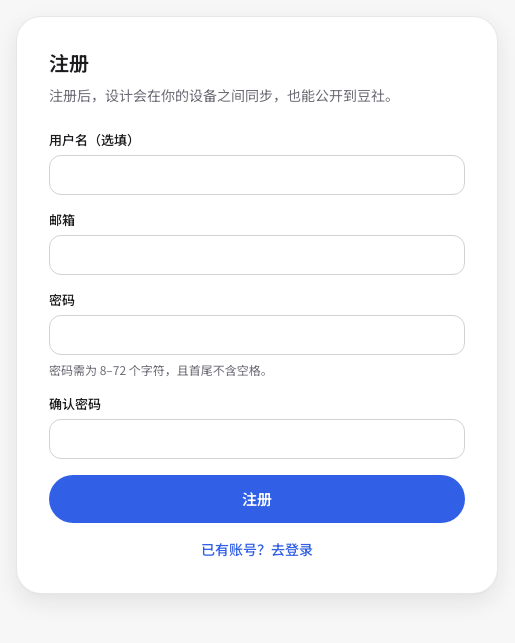
Test: register 页 › 邮箱已存在（CONFLICT）显示对应文案
In the field labelled "邮箱": (257, 255) [49, 235, 465, 275], type "a@b.com"
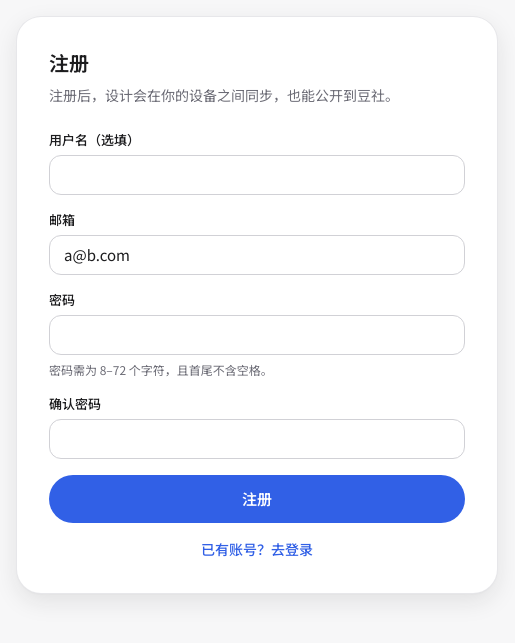
In the password field labelled "密码": (257, 335) [49, 315, 465, 355], type "12345678"
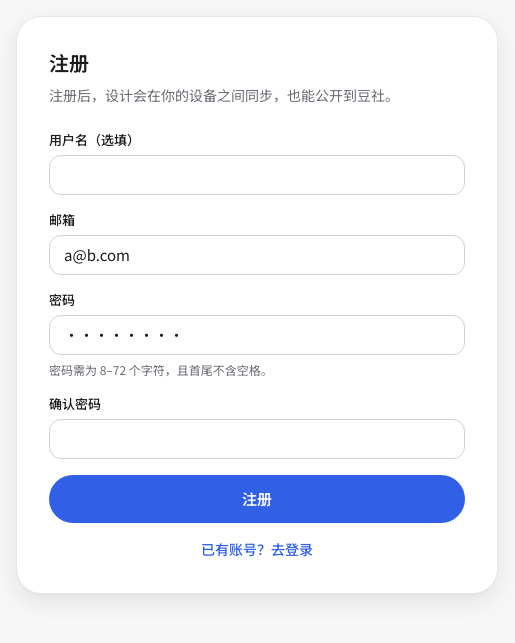
In the password field labelled "确认密码": (257, 439) [49, 419, 465, 459], type "12345678"
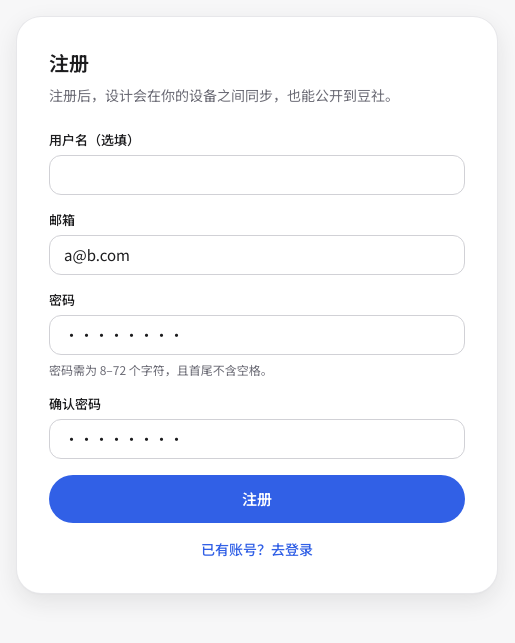
Click the button "注册": click(257, 499) [49, 475, 465, 523]
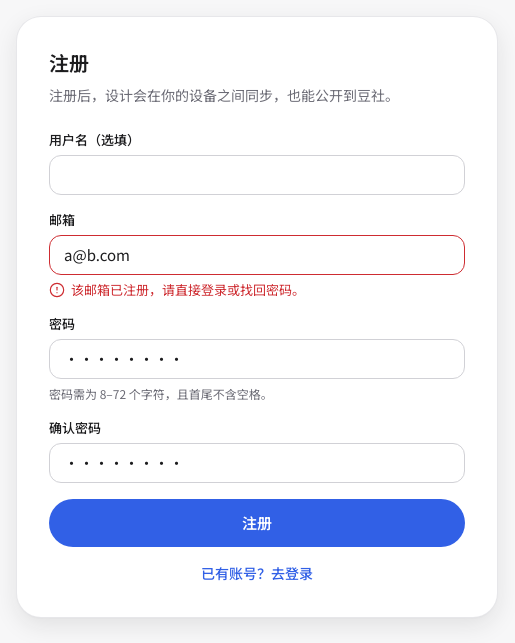
Expected: the message reads "该邮箱已注册，请直接登录或找回密码。", [71, 282, 305, 298]
